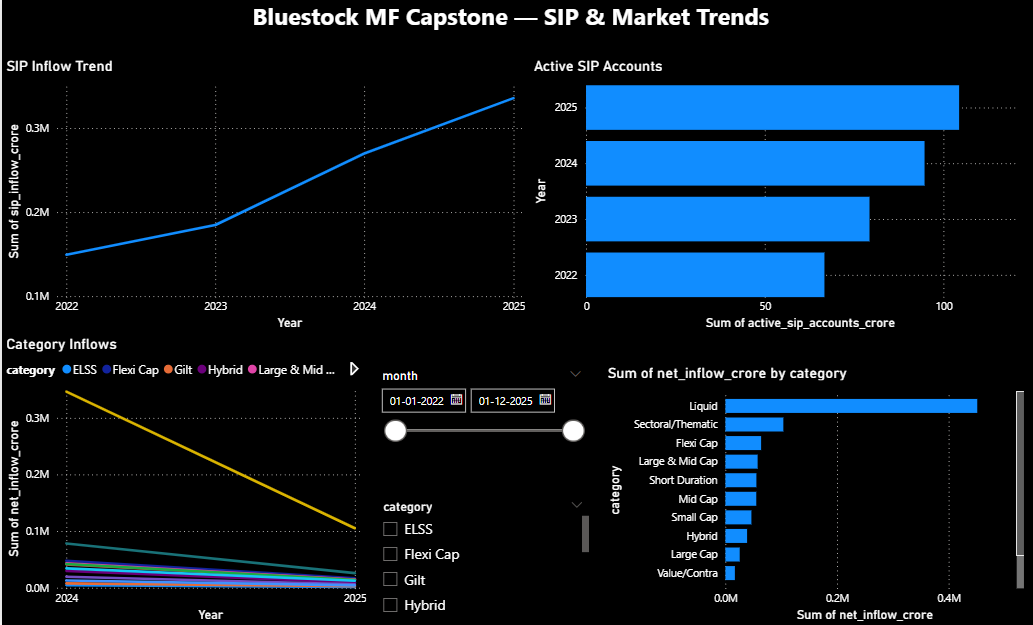

Layout of this report page (visuals, bound fields, positions):
{"tool":"powerbi","page":{"name":"SIP & Market Trends","canvas":[1280,720],"ordinal":3},"visuals":[{"type":"lineChart","title":"SIP Inflow Trend","fields":{"Category":["04_monthly_sip_inflows.month.Variation.Date Hierarchy.Year","04_monthly_sip_inflows.month.Variation.Date Hierarchy.Quarter","04_monthly_sip_inflows.month.Variation.Date Hierarchy.Month","04_monthly_sip_inflows.month.Variation.Date Hierarchy.Day"],"Y":["Sum(04_monthly_sip_inflows.sip_inflow_crore)"]},"box":[0,70,602.9,317.1],"z":0},{"type":"clusteredBarChart","title":"Active SIP Accounts","fields":{"Category":["04_monthly_sip_inflows.month.Variation.Date Hierarchy.Year","04_monthly_sip_inflows.month.Variation.Date Hierarchy.Quarter","04_monthly_sip_inflows.month.Variation.Date Hierarchy.Month","04_monthly_sip_inflows.month.Variation.Date Hierarchy.Day"],"Y":["Sum(04_monthly_sip_inflows.active_sip_accounts_crore)"]},"box":[602.9,70,570,317.1],"z":1000},{"type":"lineChart","title":"Category Inflows","fields":{"Category":["05_category_inflows.month.Variation.Date Hierarchy.Year","05_category_inflows.month.Variation.Date Hierarchy.Quarter","05_category_inflows.month.Variation.Date Hierarchy.Month","05_category_inflows.month.Variation.Date Hierarchy.Day"],"Y":["Sum(05_category_inflows.net_inflow_crore)"],"Series":["05_category_inflows.category"]},"box":[0,387.1,421.4,332.9],"z":2000},{"type":"clusteredBarChart","fields":{"Category":["05_category_inflows.category"],"Y":["Sum(05_category_inflows.net_inflow_crore)"]},"box":[687.1,420,485.7,300],"z":3000},{"type":"slicer","fields":{"Values":["05_category_inflows.category"]},"box":[422.9,570,252.9,150],"z":4000},{"type":"slicer","fields":{"Values":["04_monthly_sip_inflows.month"]},"box":[421.4,420,252.9,150],"z":5000},{"type":"textbox","box":[0,0,1155.7,70],"z":5001}]}

Visuals, with their boxes on the page's 1280x720 design canvas (x1, y1, x2, y2). These are canvas units, not pixel positions in the 1033x625 screenshot, which may show the page scaled, cropped or inside an application window:
"SIP Inflow Trend" lineChart: 0:70:603:387
"Active SIP Accounts" clusteredBarChart: 603:70:1173:387
"Category Inflows" lineChart: 0:387:421:720
clusteredBarChart - 05_category_inflows.category x Sum(05_category_inflows.net_inflow_crore): 687:420:1173:720
slicer - 05_category_inflows.category: 423:570:676:720
slicer - 04_monthly_sip_inflows.month: 421:420:674:570
textbox: 0:0:1156:70
